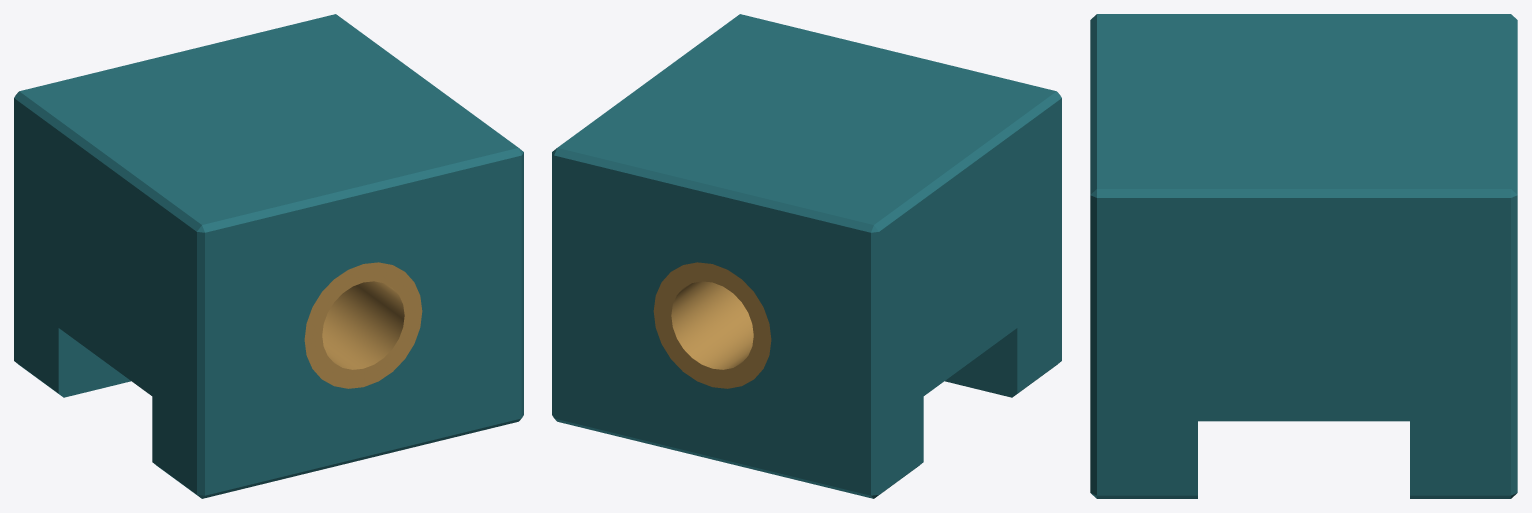
File: VLAB_slider.fbx
3 views of the same model, side by side, from view 1: azimuth 30°, elevation 25°; view 2: azimuth 150°, elevation 25°; view 3: azimuth 270°, elevation 25° (orthographic). The views are drawn at different scales.
Visible parts, largest first — view 1: VLAB_slider_Body_VIS, VLAB_slider_RodSocket_VIS; view 2: VLAB_slider_Body_VIS, VLAB_slider_RodSocket_VIS; view 3: VLAB_slider_Body_VIS.
Part boxes in pixels (left/top/right/bottom): VLAB_slider_Body_VIS: left=14, top=14, right=523, bottom=498; VLAB_slider_RodSocket_VIS: left=304, top=262, right=422, bottom=388; VLAB_slider_Body_VIS: left=552, top=14, right=1061, bottom=498; VLAB_slider_RodSocket_VIS: left=653, top=262, right=771, bottom=388; VLAB_slider_Body_VIS: left=1090, top=14, right=1517, bottom=498.
Size of the model in its own units: 0.025 by 0.02 by 0.025.
